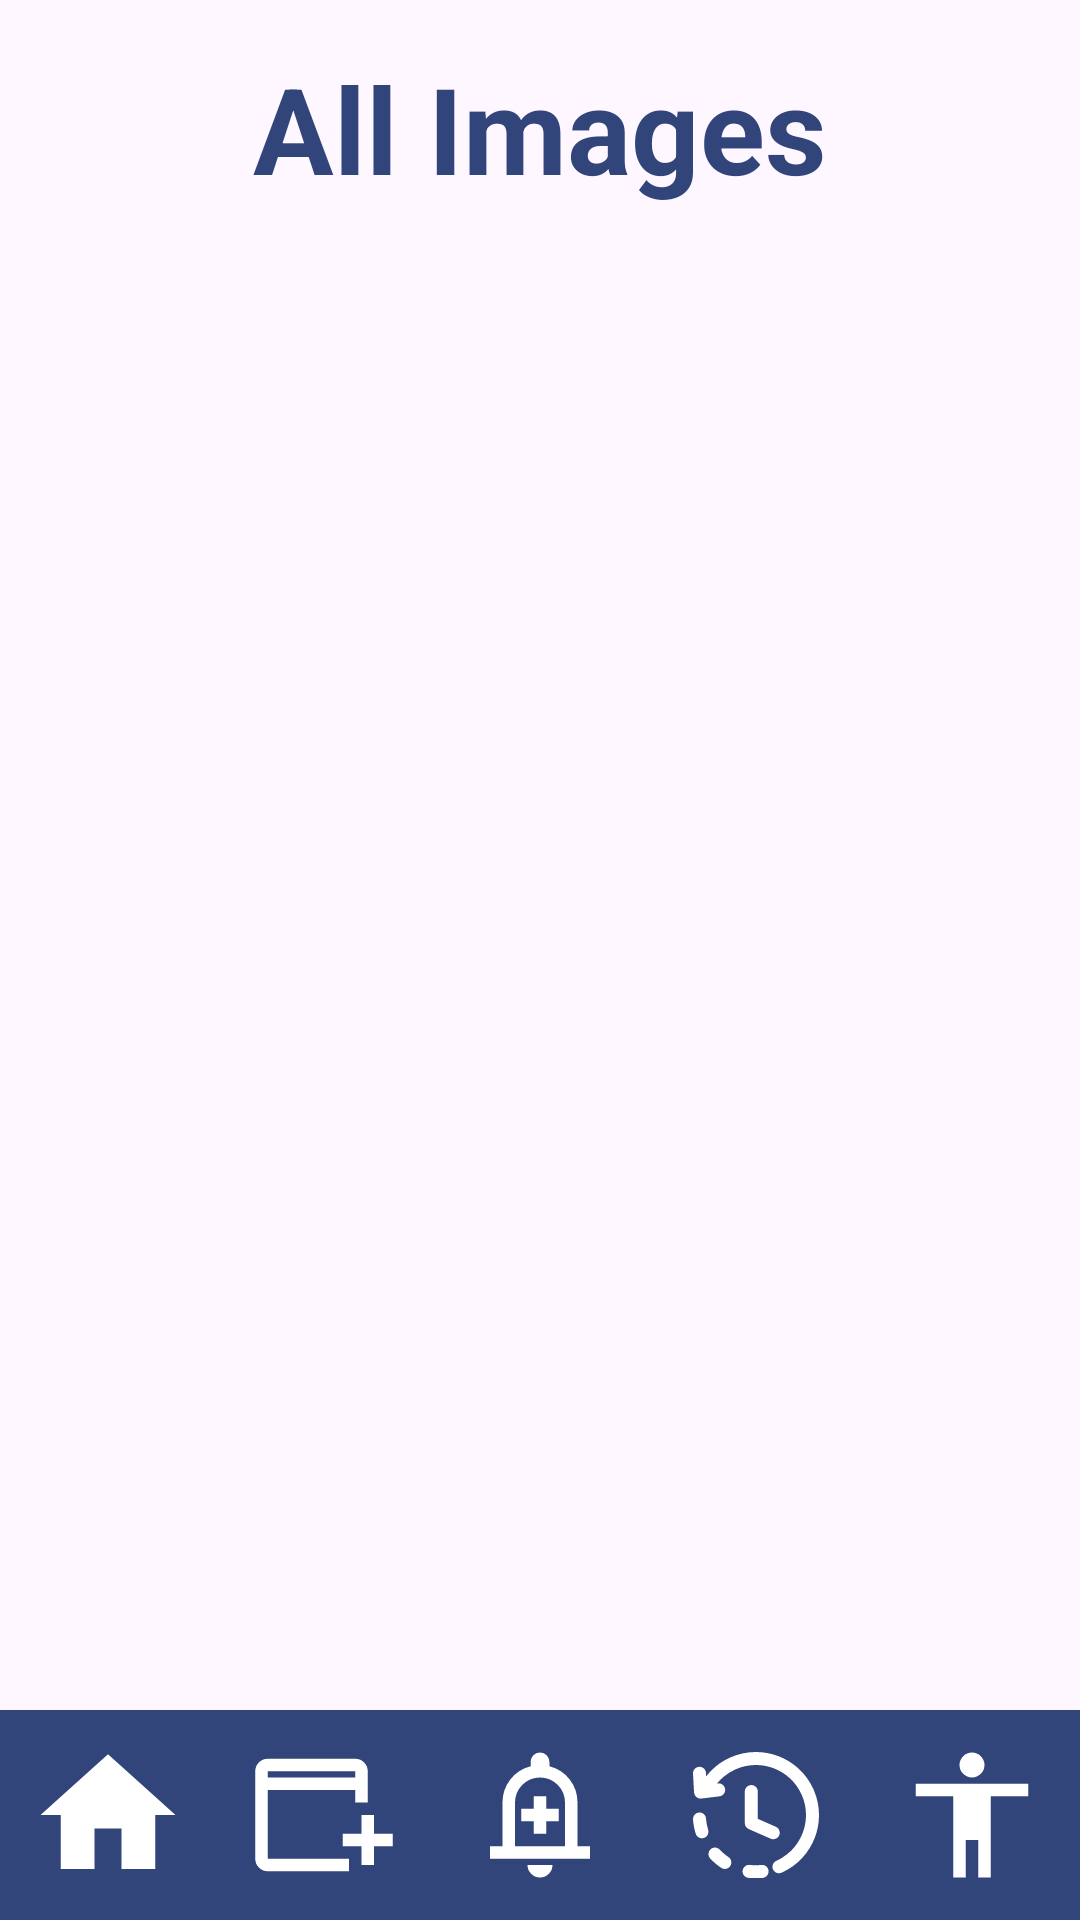

Named icons in this screenshot (1080 × 1920) and their bounding boxes, box=[x1, y1, x2, y2]:
event: box=[255, 1758, 393, 1872]
history: box=[693, 1752, 819, 1878]
home: box=[41, 1754, 175, 1869]
notification: box=[490, 1752, 590, 1878]
profile: box=[915, 1752, 1029, 1878]
